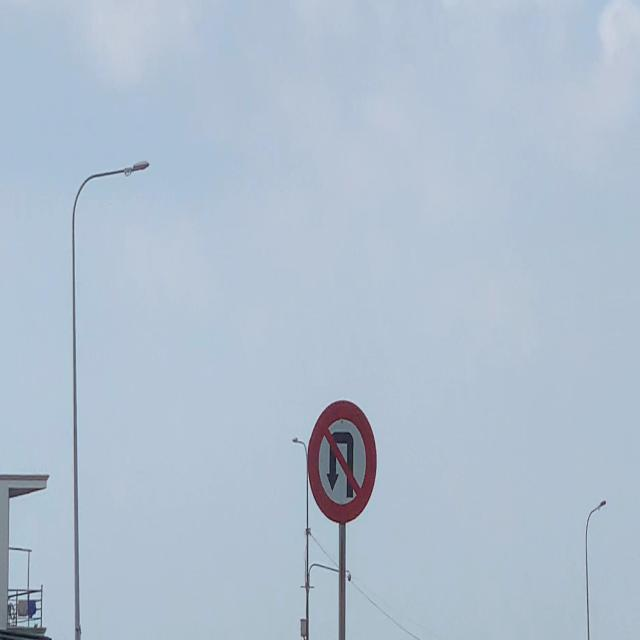Cam quay dau xe: (304, 392, 383, 530)
